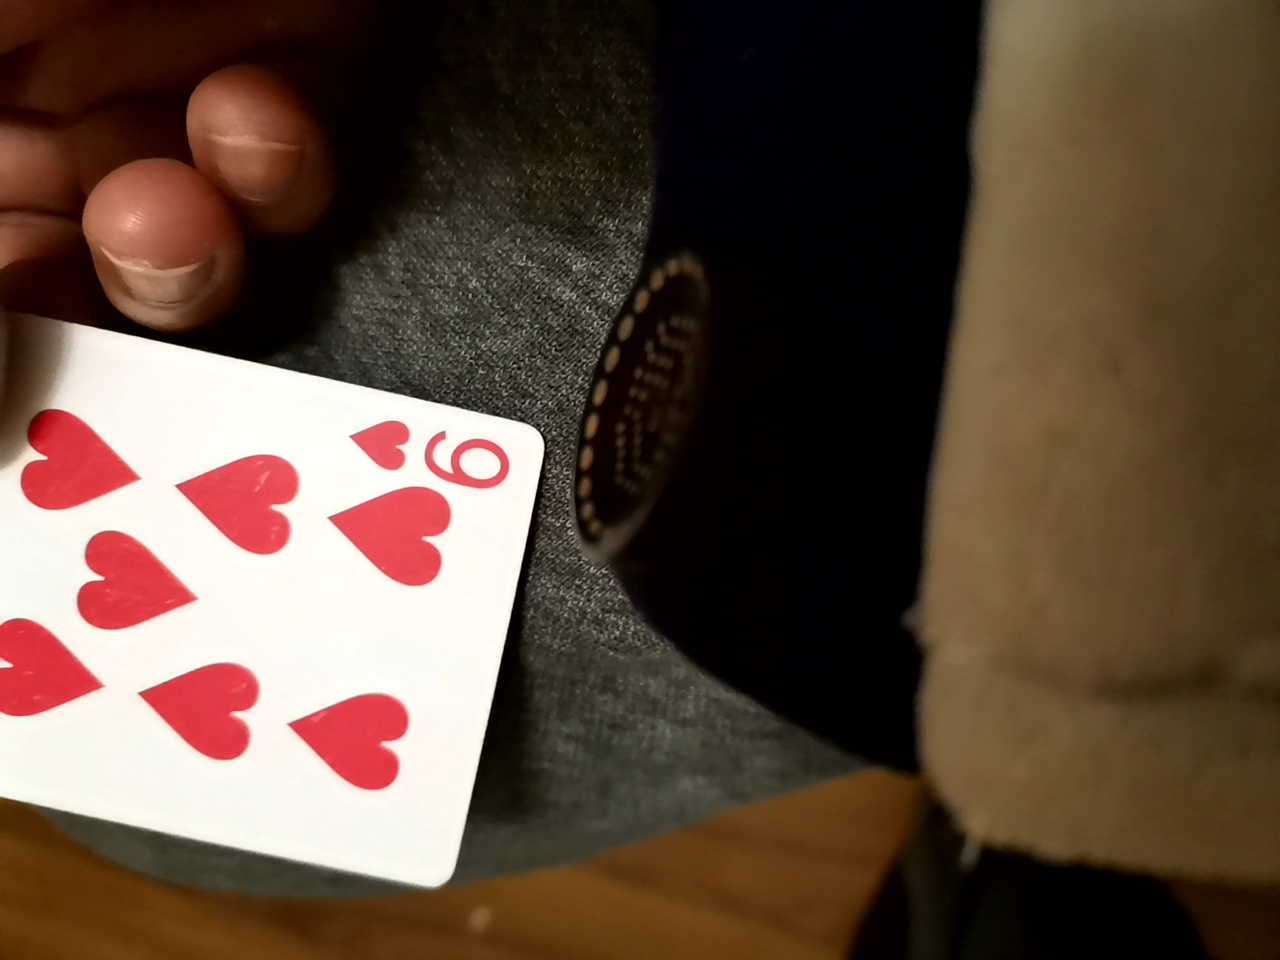hx 9: (0, 303, 554, 888)
